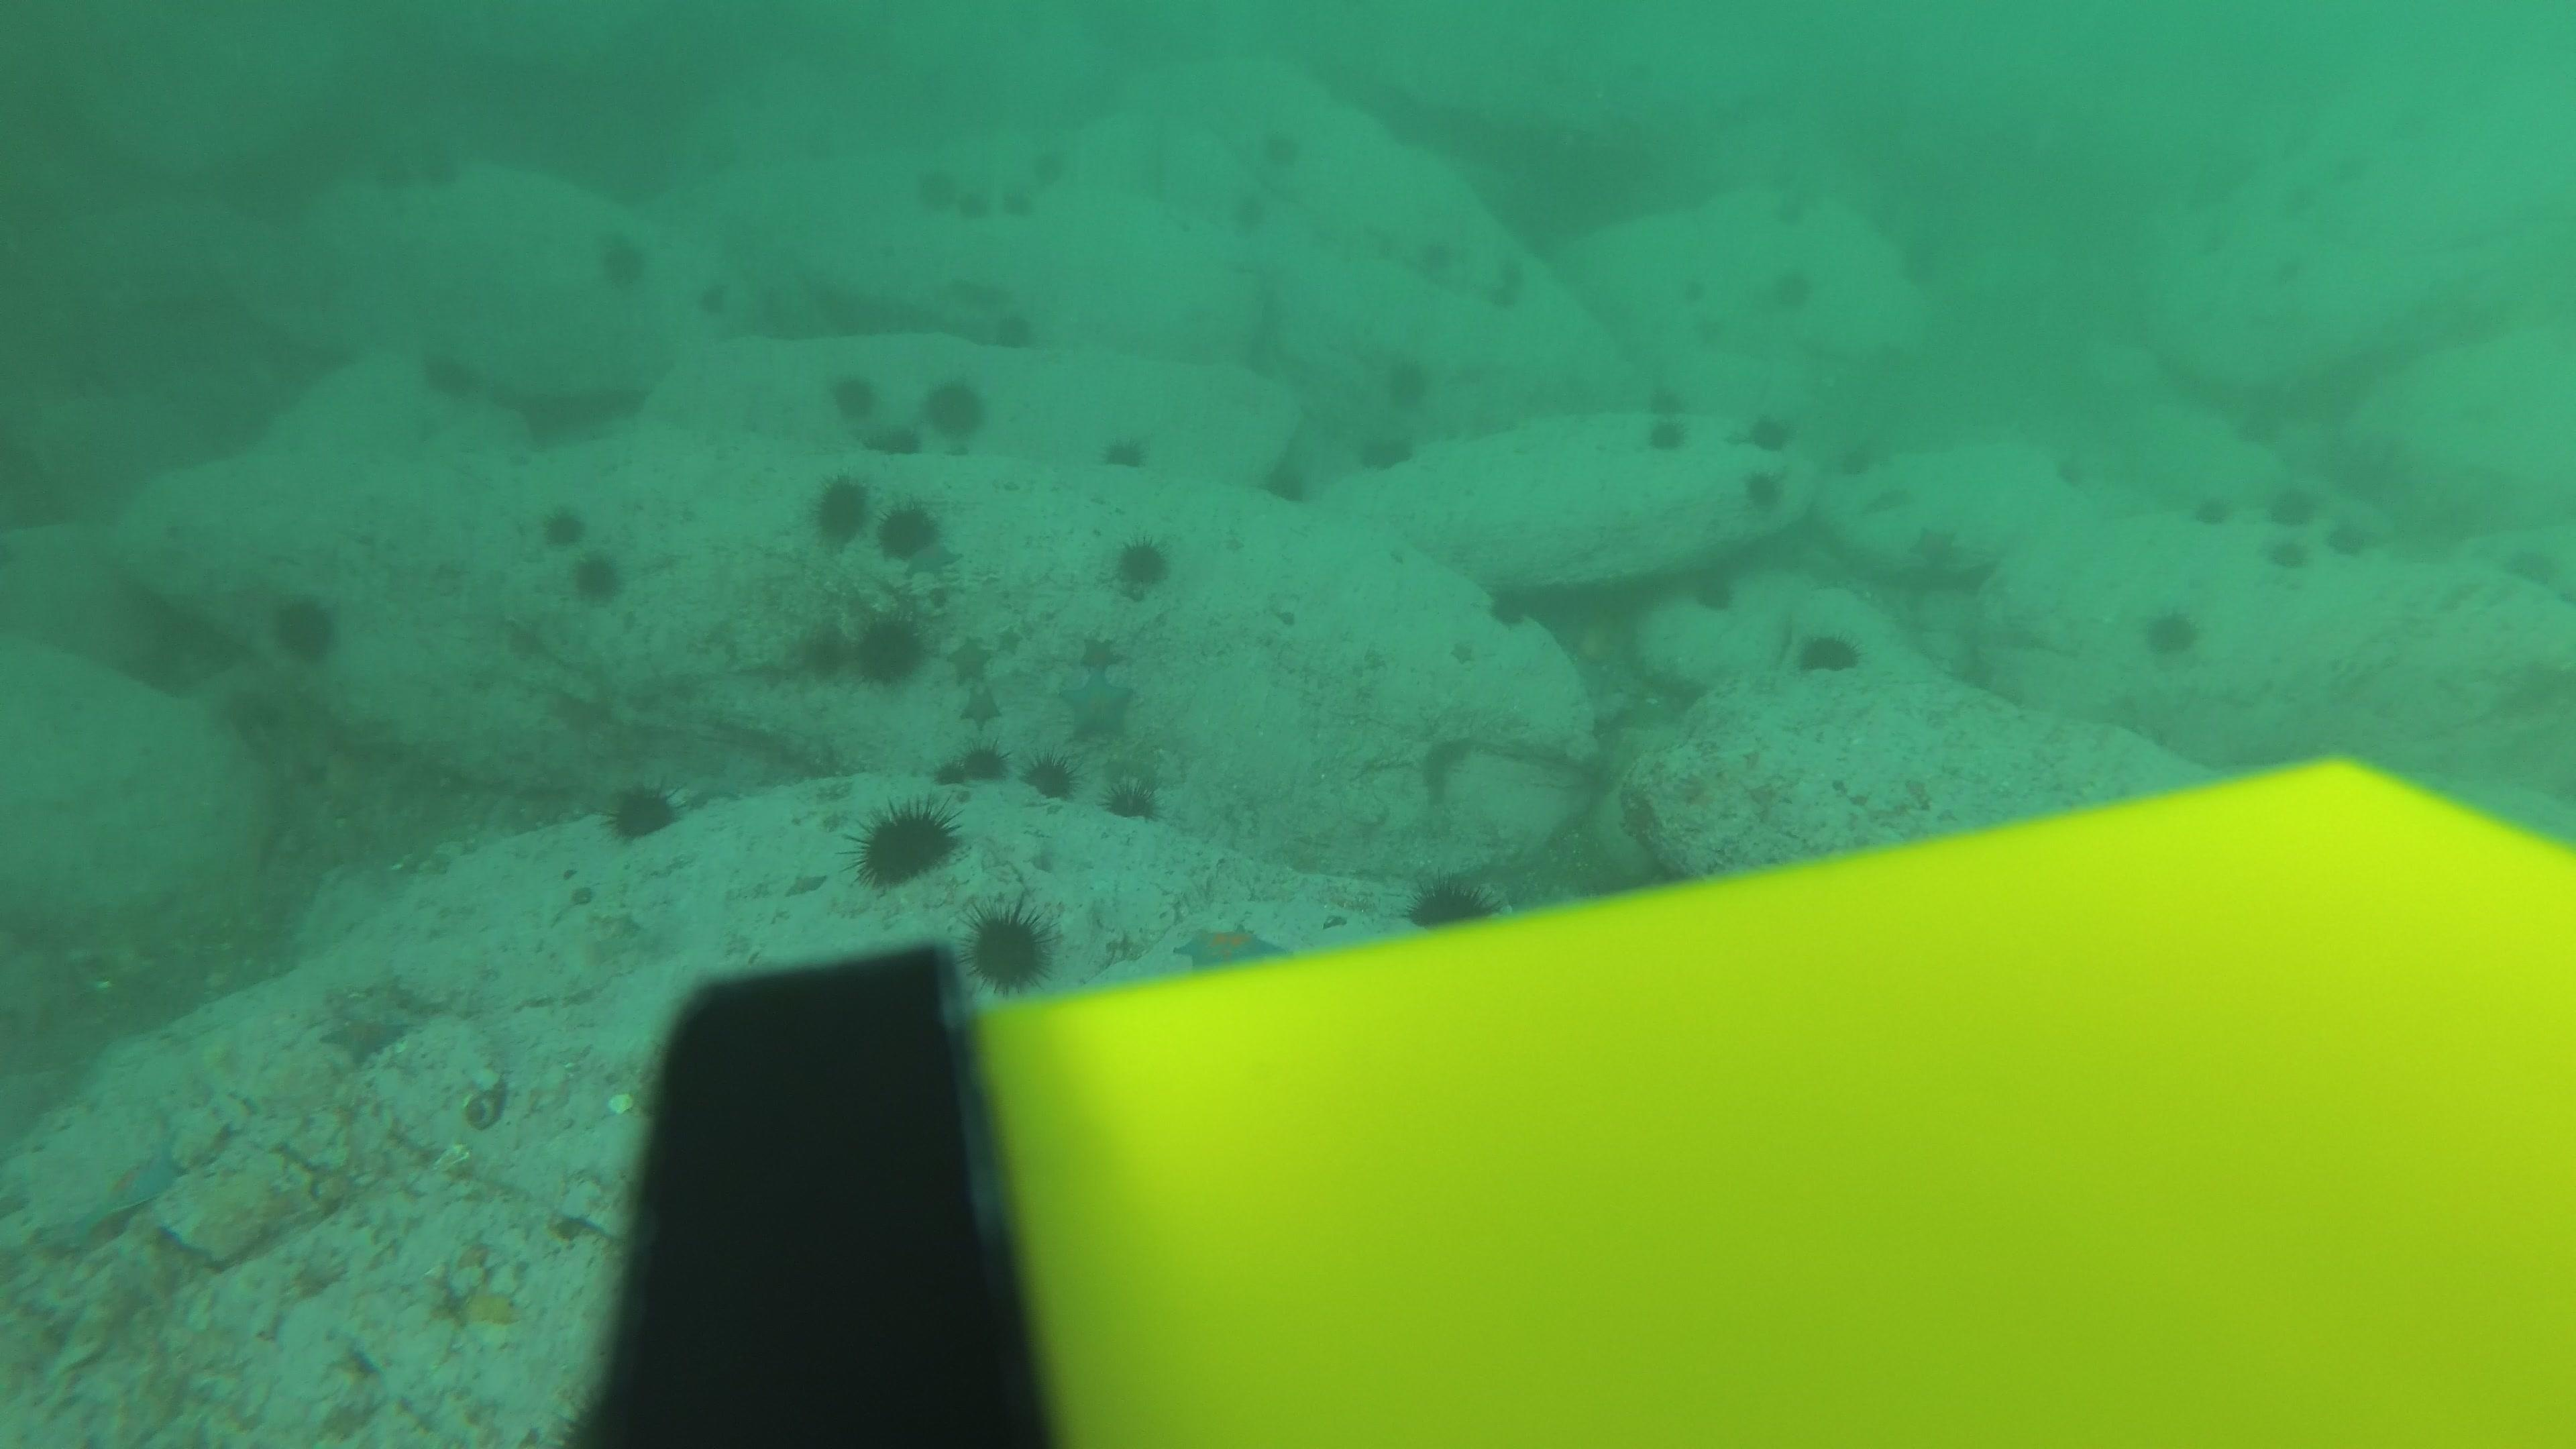echinus: (849, 796, 961, 892), (964, 902, 1056, 994), (1405, 869, 1500, 934), (849, 610, 927, 686), (600, 775, 683, 846), (269, 589, 343, 665), (922, 373, 989, 444), (810, 474, 872, 547), (1792, 623, 1865, 679), (878, 499, 941, 561), (418, 341, 481, 403), (1111, 533, 1171, 594), (2141, 602, 2203, 662), (798, 619, 860, 679), (594, 228, 653, 292), (858, 407, 927, 460), (982, 304, 1049, 357), (897, 161, 966, 212), (570, 547, 626, 605), (1258, 451, 1315, 508), (1102, 771, 1162, 824), (1382, 352, 1433, 410), (1357, 426, 1415, 476), (828, 368, 879, 423), (1026, 752, 1077, 805), (540, 501, 591, 554), (678, 271, 736, 315), (418, 150, 474, 195), (370, 156, 426, 200), (1640, 410, 1691, 458), (1744, 407, 1796, 455), (1024, 134, 1077, 180), (989, 182, 1044, 226), (1100, 428, 1152, 472), (964, 740, 1008, 789), (1741, 467, 1785, 515), (2321, 518, 2371, 561), (2192, 494, 2242, 536), (1764, 265, 1813, 308), (1221, 191, 1270, 234), (1472, 580, 1520, 623), (1674, 269, 1721, 311), (1759, 191, 1806, 234), (1845, 191, 1893, 234), (2192, 225, 2240, 267), (2282, 180, 2330, 223), (2224, 161, 2272, 203), (2054, 453, 2104, 494), (1835, 442, 1884, 483), (1891, 244, 1941, 285), (2318, 157, 2367, 198), (2263, 533, 2311, 573), (2266, 490, 2314, 531), (2229, 403, 2277, 444), (1695, 568, 1743, 609), (1688, 311, 1736, 352), (1644, 380, 1691, 421), (1483, 276, 1530, 317), (1484, 249, 1532, 290), (1419, 235, 1467, 276), (1260, 124, 1307, 165), (2270, 248, 2318, 288), (931, 754, 966, 791), (955, 186, 991, 216)
starfish: (37, 1136, 189, 1256), (313, 998, 416, 1067), (1171, 916, 1283, 975), (1056, 663, 1138, 743), (1415, 732, 1470, 801), (1907, 522, 1967, 566), (954, 676, 1005, 727), (948, 633, 996, 686), (1074, 632, 1122, 676), (993, 623, 1030, 660), (1447, 637, 1484, 672)
